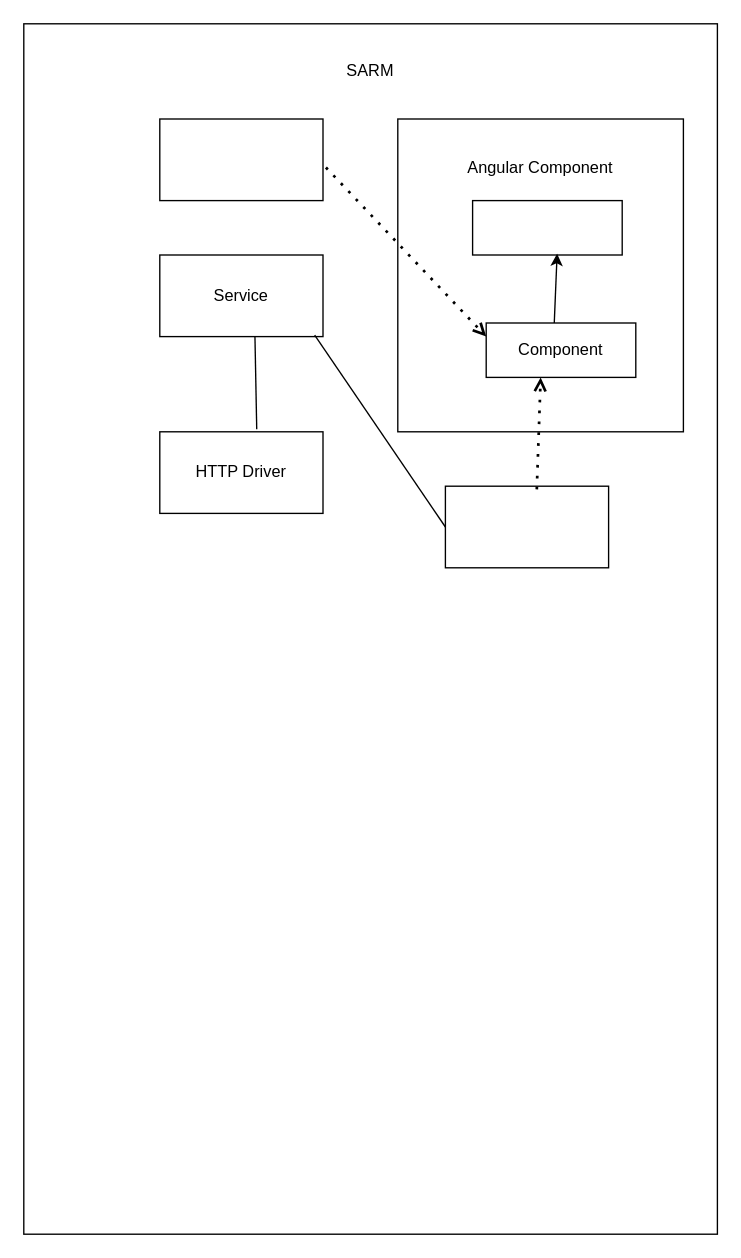
The diagram is 741 pixels wide and 1258 high, and some of its shapes have lost their labels. The shapes that lost their labels are listed below. From the top down, each one's centre as x and y in pixels, then its label:
At (240,159): "Routes".
At (546,227): "UI Component".
At (526,526): "Model".
